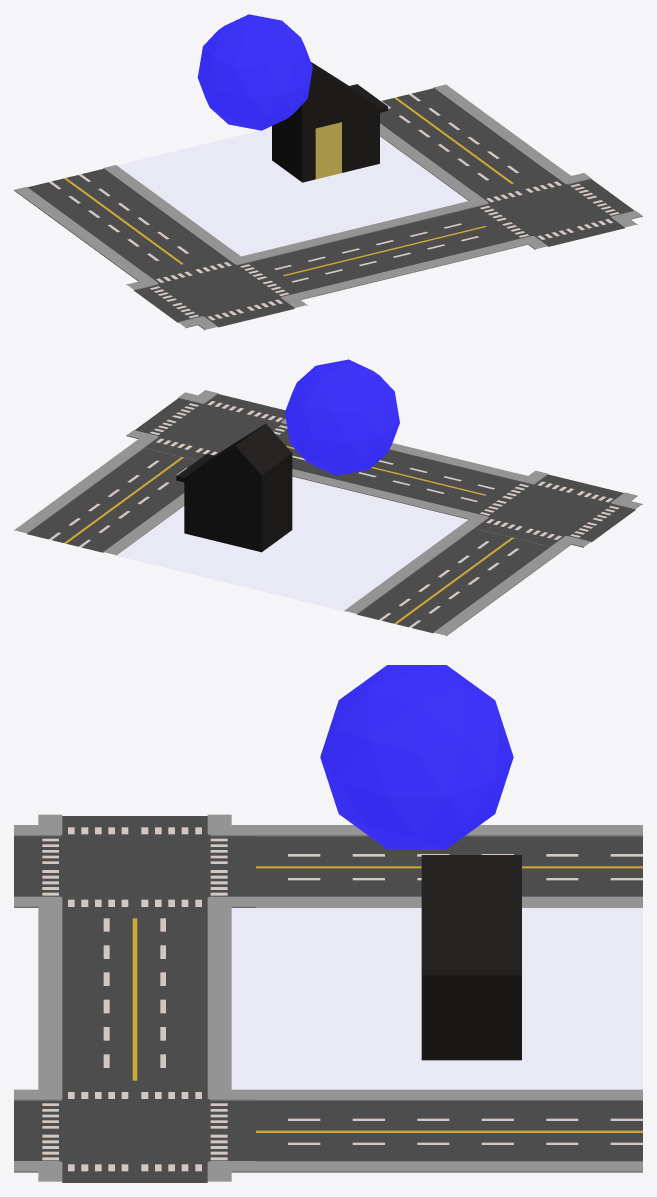
The model's file is latestbloomtest.glb.
3 views of the same model, one above another, from view 1: azimuth 30°, elevation 25°; view 2: azimuth 150°, elevation 25°; view 3: azimuth 270°, elevation 25° (orthographic). The views are drawn at different scales.
Visible parts, largest first — view 1: Straight Road.020, Floor, Sphere, House; view 2: Straight Road.020, Floor, House, Sphere; view 3: Straight Road.020, Floor, Sphere, House.
Boxes of the visible parts, x1=… form: Straight Road.020: x1=14, y1=84, x2=642, y2=329; Floor: x1=117, y1=127, x2=467, y2=256; Sphere: x1=197, y1=14, x2=312, y2=130; House: x1=272, y1=62, x2=387, y2=182; Straight Road.020: x1=14, y1=390, x2=642, y2=636; Floor: x1=114, y1=476, x2=467, y2=611; House: x1=176, y1=423, x2=292, y2=552; Sphere: x1=285, y1=359, x2=399, y2=475; Straight Road.020: x1=14, y1=814, x2=642, y2=1182; Floor: x1=231, y1=907, x2=642, y2=1089; Sphere: x1=320, y1=665, x2=513, y2=848; House: x1=421, y1=855, x2=521, y2=1060.
Bounding box in the file's own units: 8.97 × 3.37 × 6.5.
